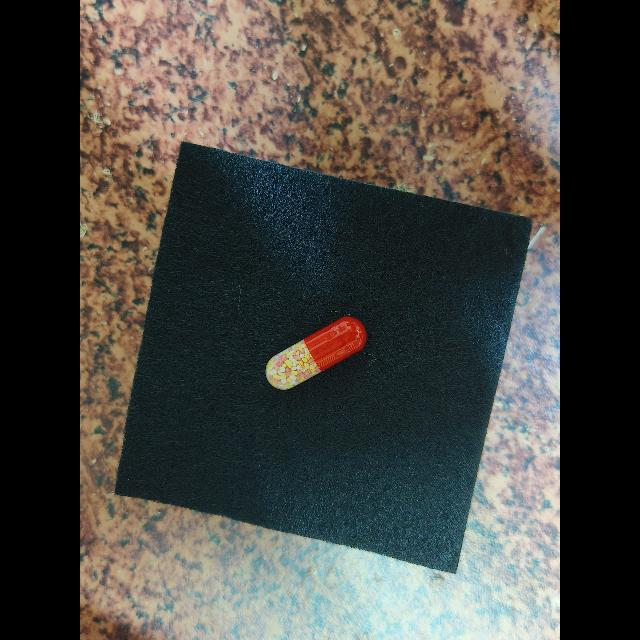Intact Capsule: (265, 316, 367, 390)
